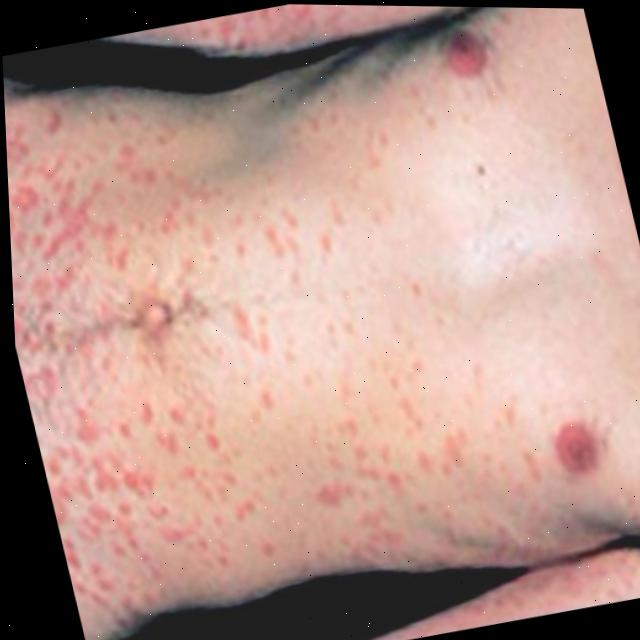Rosacea: (2, 49, 506, 613), (131, 2, 468, 70)
